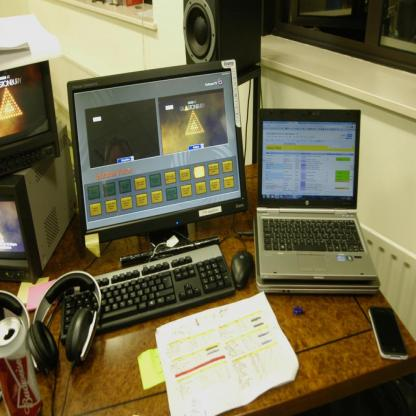board: (252, 114, 384, 300)
